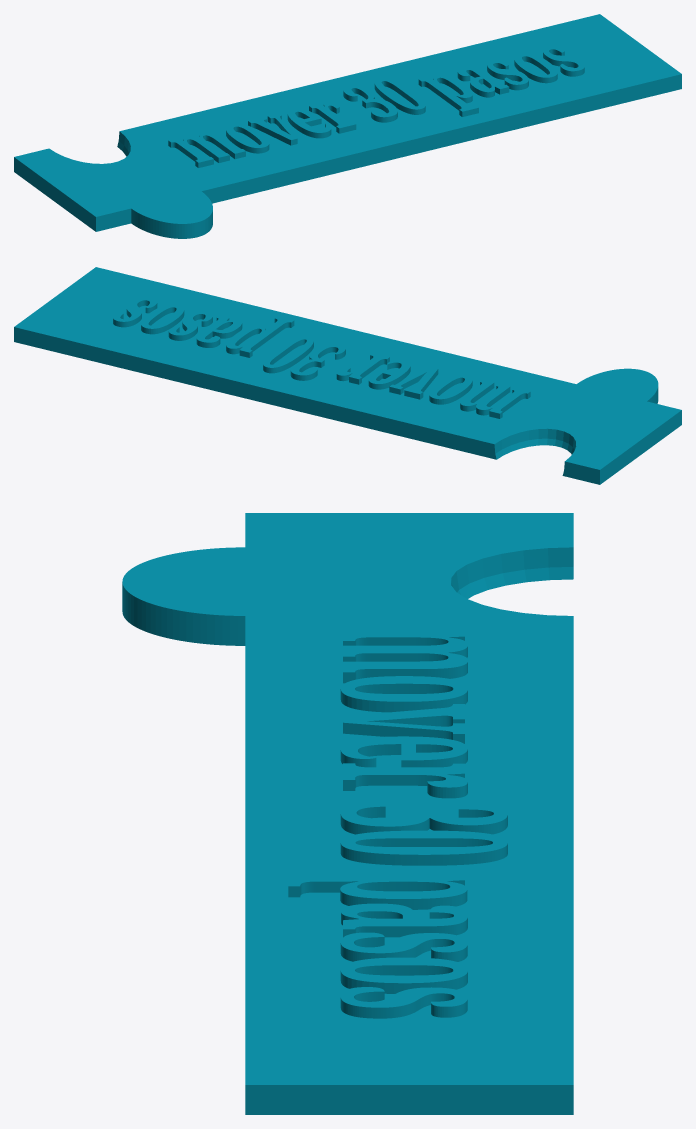
Rendered from Mover.gltf.
3 views of the same model, one above another, from view 1: azimuth 30°, elevation 25°; view 2: azimuth 150°, elevation 25°; view 3: azimuth 270°, elevation 25° (orthographic). The views are drawn at different scales.
Visible parts, largest first — view 1: Mesh_Mesh_head_geo.001_lambert2SG.001; view 2: Mesh_Mesh_head_geo.001_lambert2SG.001; view 3: Mesh_Mesh_head_geo.001_lambert2SG.001.
Part boxes in pixels (x1,y1,x2,y2): Mesh_Mesh_head_geo.001_lambert2SG.001: (14,14,681,238); Mesh_Mesh_head_geo.001_lambert2SG.001: (14,267,681,484); Mesh_Mesh_head_geo.001_lambert2SG.001: (122,513,573,1114).
Bounding box in the file's own units: 0.6 × 0.02 × 0.2.
